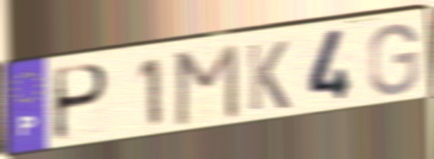1: (135, 55, 166, 128)
4: (304, 25, 360, 108)
G: (366, 20, 421, 98)
K: (244, 38, 292, 114)
M: (172, 40, 241, 129)
P: (51, 62, 112, 145)
